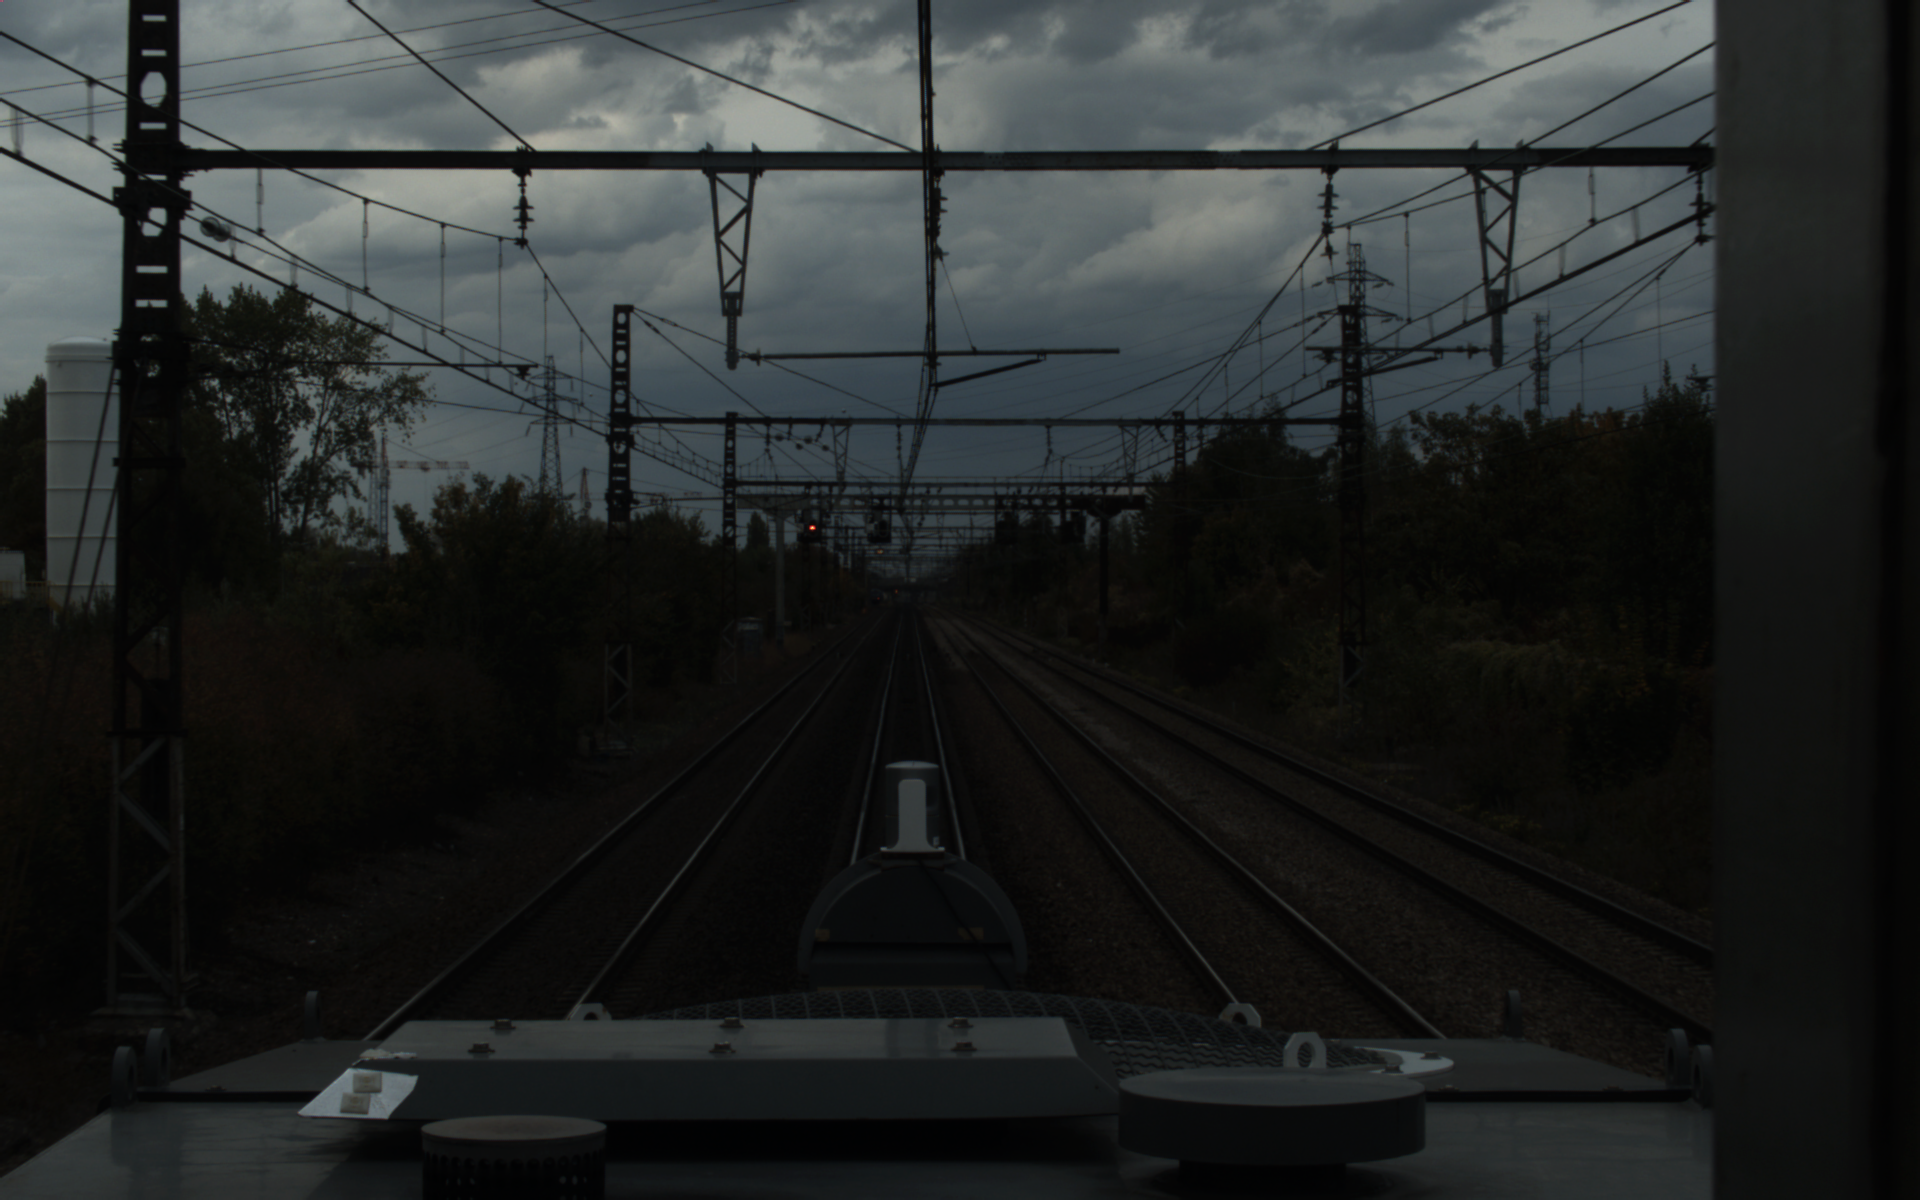Blinking: (804, 517, 818, 538), (875, 517, 889, 538)
